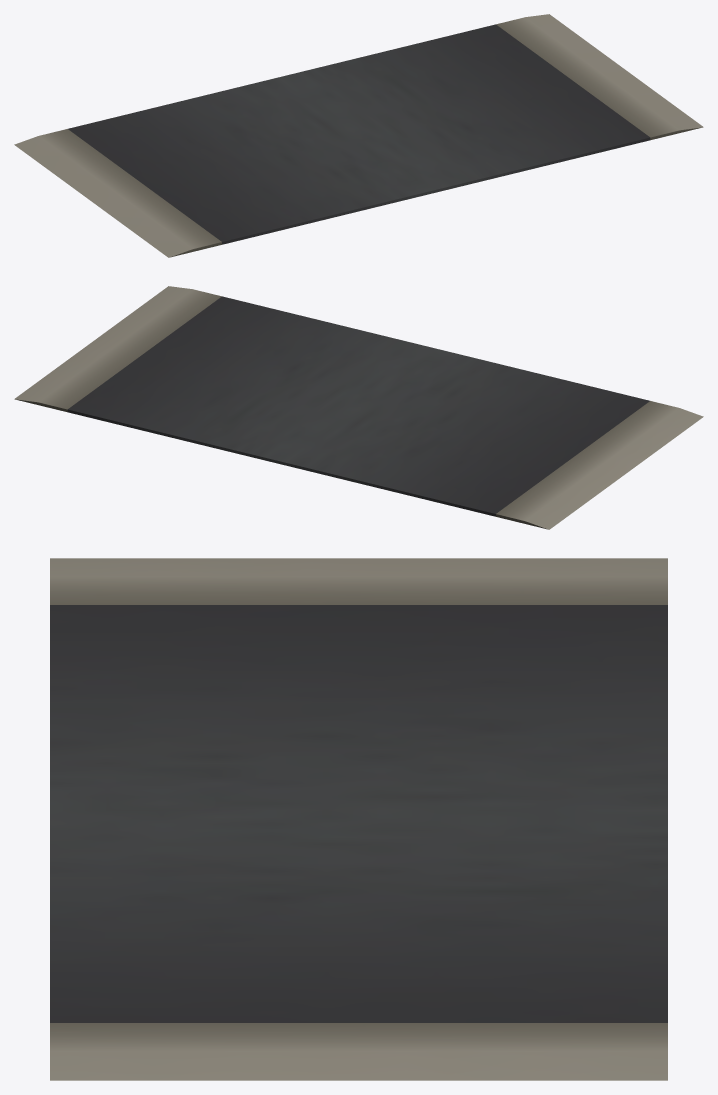
The model's file is Straight_1F_Short.glb.
3 views of the same model, one above another, from view 1: azimuth 30°, elevation 25°; view 2: azimuth 150°, elevation 25°; view 3: azimuth 270°, elevation 25° (orthographic). The views are drawn at different scales.
Visible parts, largest first — view 1: Straight_1F_Short; view 2: Straight_1F_Short; view 3: Straight_1F_Short.
Part boxes in pixels (x1,y1,x2,y2): Straight_1F_Short: (14, 14, 703, 257); Straight_1F_Short: (14, 286, 703, 529); Straight_1F_Short: (50, 558, 667, 1080).
Bounding box in the file's own units: 20 × 0.1 × 10.
1 material, 1 textured.
